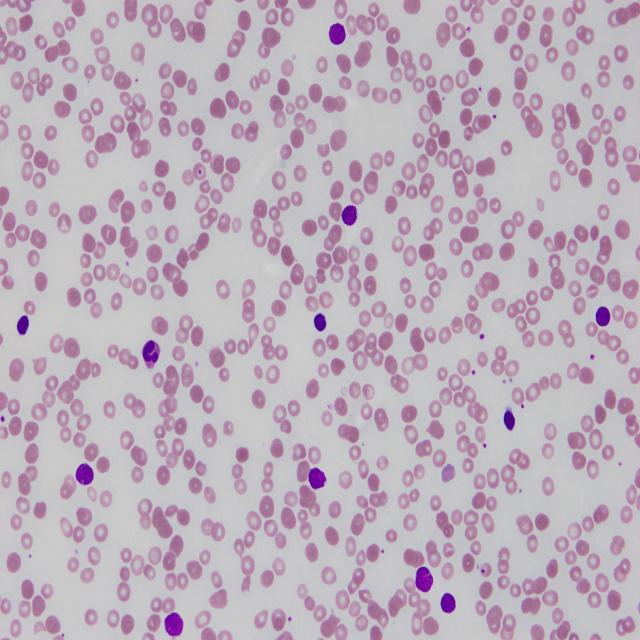cell: (415, 567, 434, 592), (165, 613, 184, 637), (75, 463, 94, 485), (309, 468, 326, 489), (329, 23, 345, 45), (341, 205, 358, 225), (440, 593, 456, 613), (595, 307, 610, 327), (16, 315, 29, 335), (504, 408, 515, 431), (314, 313, 326, 332)
